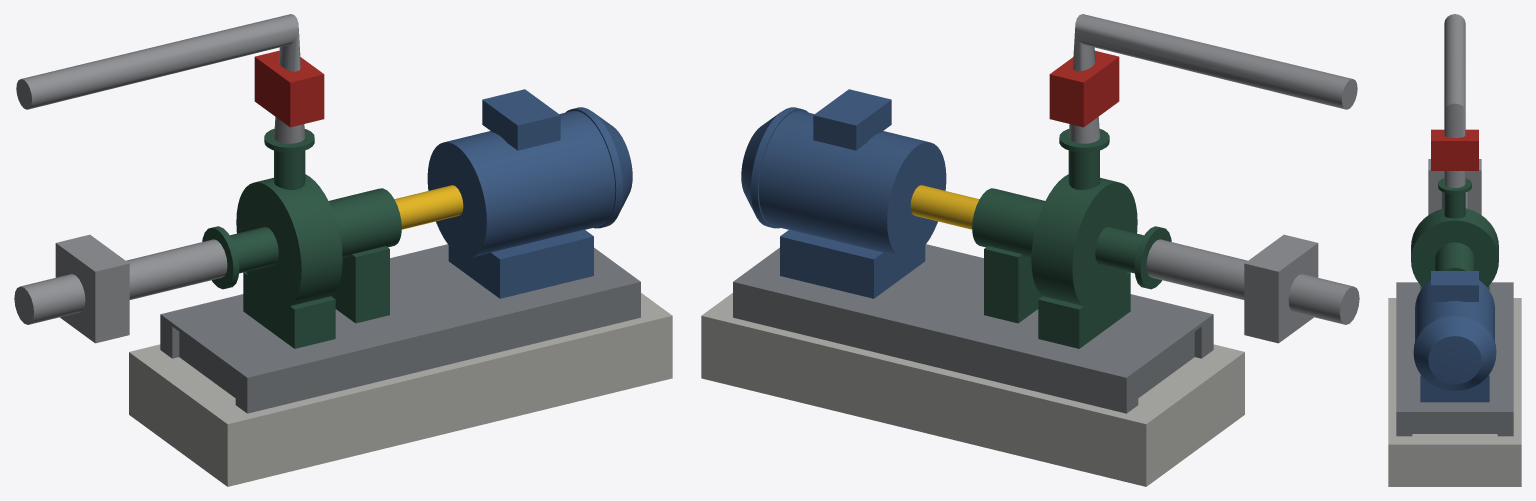
The model's file is centrifugal-pump.glb.
The picture shows the model from 3 angles, left to right: view 1: azimuth 30°, elevation 25°; view 2: azimuth 150°, elevation 25°; view 3: azimuth 270°, elevation 25°; orthographic projection. The views are drawn at different scales.
Parts seen in each view (by area): view 1: Fabricated baseplate on concrete plinth - Concrete, light gr, Fabricated baseplate on concrete plinth - Structural steel, , Electric motor 30 kW (TEFC) - Motors and drives, blue-grey, End-suction centrifugal pump - Pump casing, dark green, Suction and discharge spools with valves - Pipes, mid grey, Suction and discharge spools with valves - Pipes, red (fire , End-suction centrifugal pump - Handrails, ladders and cages,; view 2: Fabricated baseplate on concrete plinth - Concrete, light gr, Fabricated baseplate on concrete plinth - Structural steel, , Electric motor 30 kW (TEFC) - Motors and drives, blue-grey, End-suction centrifugal pump - Pump casing, dark green, Suction and discharge spools with valves - Pipes, mid grey, Suction and discharge spools with valves - Pipes, red (fire , End-suction centrifugal pump - Handrails, ladders and cages,; view 3: Electric motor 30 kW (TEFC) - Motors and drives, blue-grey, Fabricated baseplate on concrete plinth - Concrete, light gr, Fabricated baseplate on concrete plinth - Structural steel, , End-suction centrifugal pump - Pump casing, dark green, Suction and discharge spools with valves - Pipes, mid grey, Suction and discharge spools with valves - Pipes, red (fire .
Boxes of the visible parts, bbox=[...] form: Fabricated baseplate on concrete plinth - Concrete, light gr: bbox=[129, 293, 672, 486]; Fabricated baseplate on concrete plinth - Structural steel, : bbox=[160, 244, 640, 413]; Electric motor 30 kW (TEFC) - Motors and drives, blue-grey: bbox=[427, 89, 632, 298]; End-suction centrifugal pump - Pump casing, dark green: bbox=[202, 128, 401, 348]; Suction and discharge spools with valves - Pipes, mid grey: bbox=[14, 14, 304, 343]; Suction and discharge spools with valves - Pipes, red (fire : bbox=[254, 50, 324, 127]; End-suction centrifugal pump - Handrails, ladders and cages,: bbox=[394, 185, 463, 229]; Fabricated baseplate on concrete plinth - Concrete, light gr: bbox=[701, 293, 1244, 486]; Fabricated baseplate on concrete plinth - Structural steel, : bbox=[733, 244, 1213, 413]; Electric motor 30 kW (TEFC) - Motors and drives, blue-grey: bbox=[741, 89, 946, 298]; End-suction centrifugal pump - Pump casing, dark green: bbox=[972, 129, 1171, 348]; Suction and discharge spools with valves - Pipes, mid grey: bbox=[1069, 14, 1359, 343]; Suction and discharge spools with valves - Pipes, red (fire : bbox=[1049, 50, 1119, 127]; End-suction centrifugal pump - Handrails, ladders and cages,: bbox=[910, 185, 979, 229]; Electric motor 30 kW (TEFC) - Motors and drives, blue-grey: bbox=[1413, 271, 1496, 402]; Fabricated baseplate on concrete plinth - Concrete, light gr: bbox=[1388, 298, 1521, 486]; Fabricated baseplate on concrete plinth - Structural steel, : bbox=[1396, 282, 1513, 436]; End-suction centrifugal pump - Pump casing, dark green: bbox=[1411, 178, 1498, 290]; Suction and discharge spools with valves - Pipes, mid grey: bbox=[1428, 14, 1481, 214]; Suction and discharge spools with valves - Pipes, red (fire : bbox=[1431, 129, 1478, 170].
Bounding box in the file's own units: 3.5 × 2.28 × 1.
7 materials, 7 textured.
